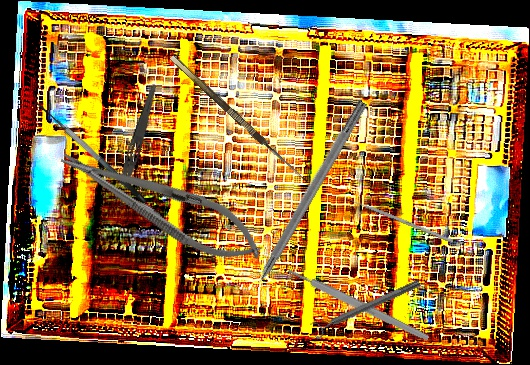Dressing Forceps: (110, 81, 160, 209)
Fixation Ring: (309, 275, 424, 340)
Hook Surgical: (240, 98, 369, 306), (169, 47, 315, 185)
Needle Holder: (51, 131, 272, 277)
Pusher: (341, 194, 454, 244)
Scalpel Handle: (286, 266, 431, 343)
Spatula Surgical: (26, 96, 149, 214)
